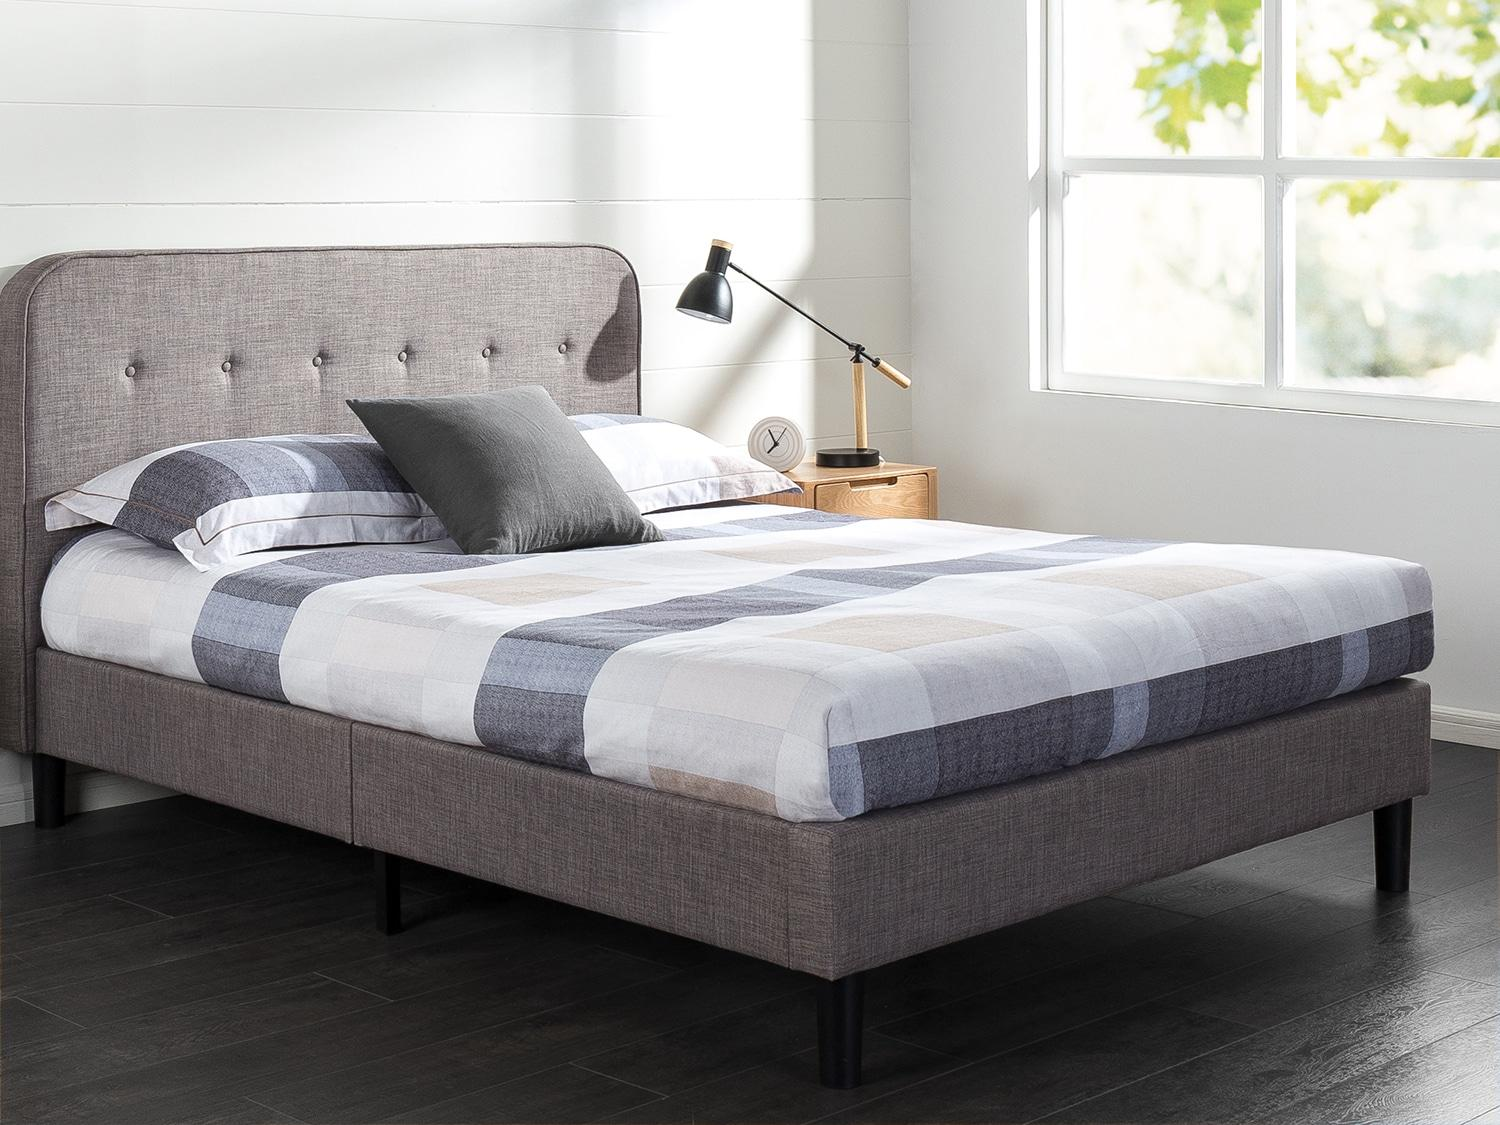bed: (83, 240, 1365, 925)
